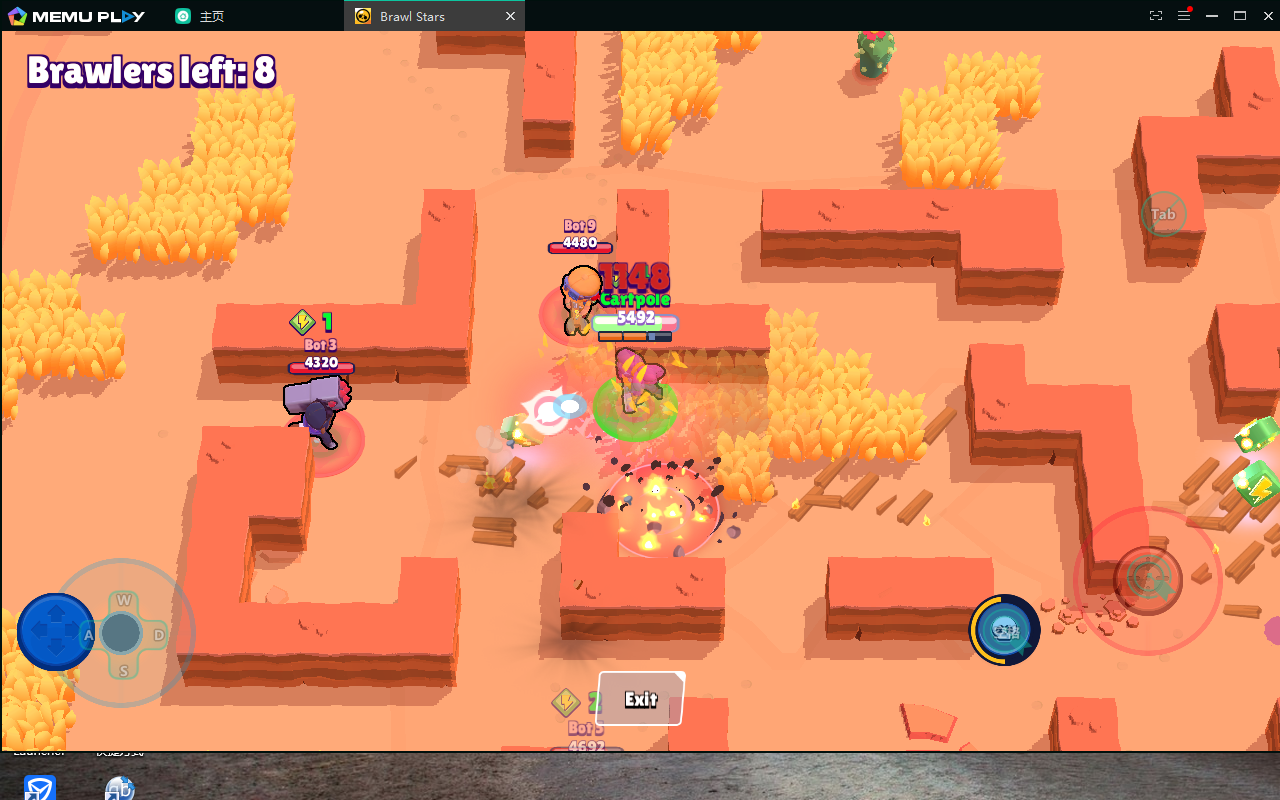current_player: (710, 348, 795, 410)
